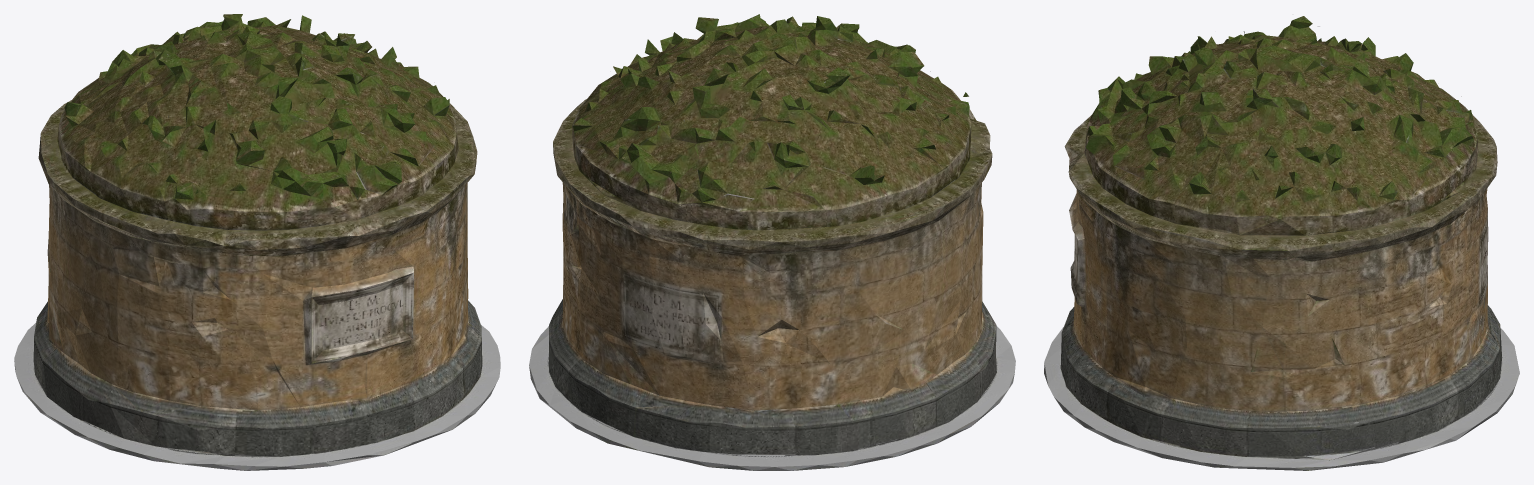
File: tomb1.glb
The picture shows the model from 3 angles, left to right: view 1: azimuth 30°, elevation 25°; view 2: azimuth 150°, elevation 25°; view 3: azimuth 270°, elevation 25°; orthographic projection. The views are drawn at different scales.
Parts seen in each view (by area): view 1: lo; view 2: lo; view 3: lo.
Boxes of the visible parts, bbox=[...] form: lo: bbox=[14, 14, 500, 470]; lo: bbox=[529, 14, 1015, 470]; lo: bbox=[1044, 16, 1519, 470].
Size of the model in its own units: 0.9971 by 0.7391 by 0.9973.
Materials: 1 (1 with a texture image).
